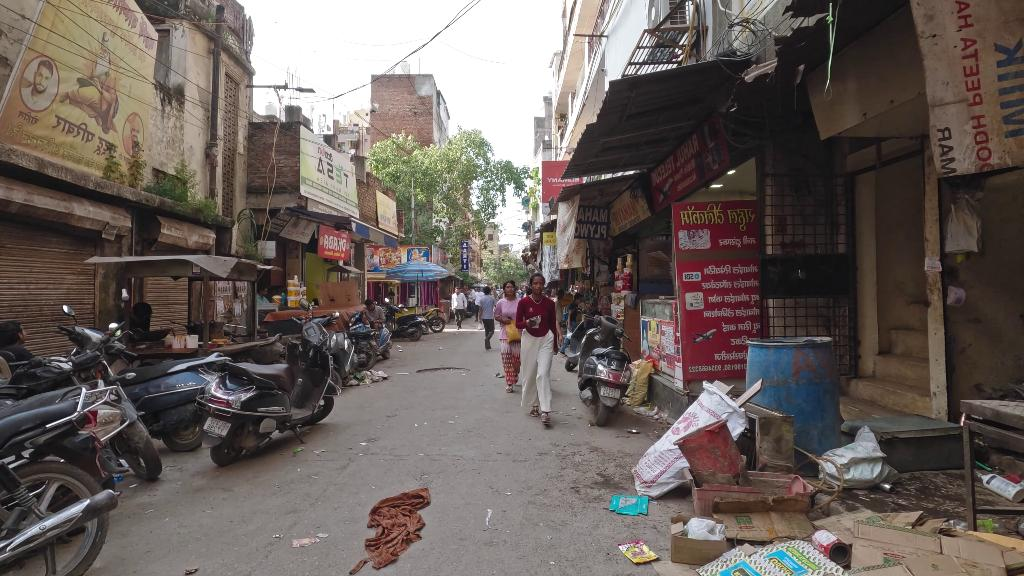garbage: (671, 469, 808, 571), (632, 385, 756, 495), (840, 524, 1024, 576), (361, 479, 432, 576), (609, 487, 648, 519), (351, 365, 387, 391), (624, 533, 652, 565)
